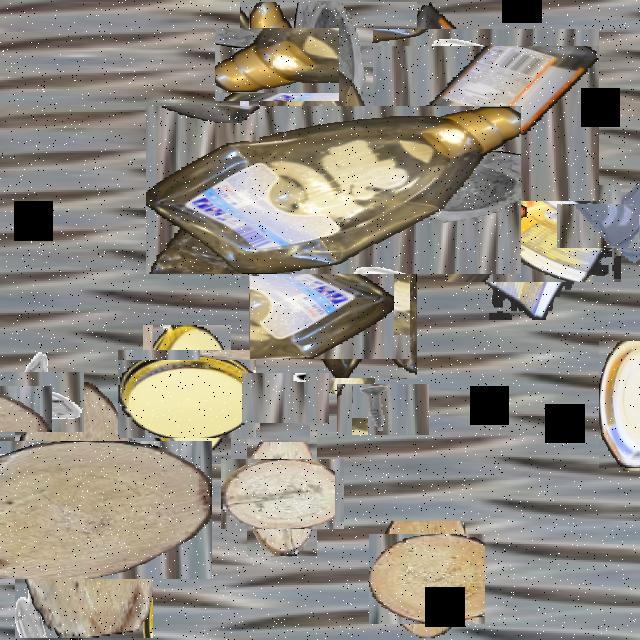glass: (268, 252, 392, 377), (576, 184, 640, 267)
metal: (149, 439, 211, 549), (0, 360, 72, 443), (347, 373, 419, 445), (250, 363, 320, 433), (211, 190, 259, 276)
plastic: (197, 54, 469, 326), (386, 16, 586, 215), (466, 165, 602, 301), (130, 338, 244, 451), (228, 14, 326, 114), (599, 342, 640, 469)
wood: (0, 411, 182, 608), (375, 528, 479, 631), (234, 445, 330, 543)
